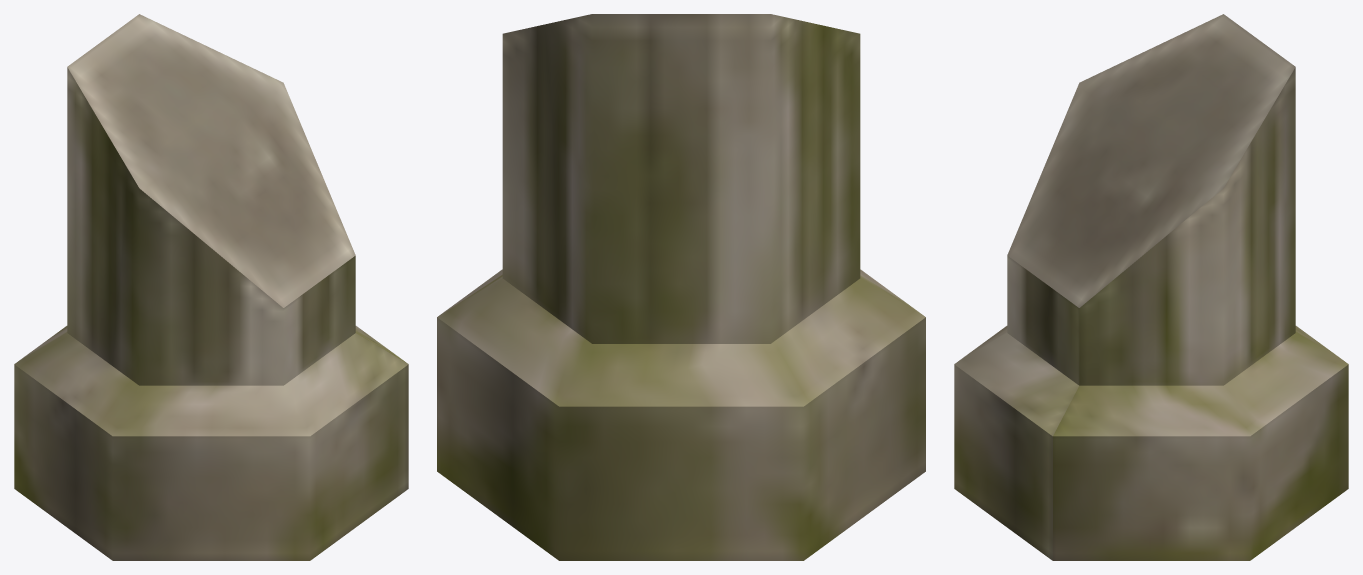
The model's file is swamp_temple_5.FBX.
The picture shows the model from 3 angles, left to right: view 1: azimuth 30°, elevation 25°; view 2: azimuth 150°, elevation 25°; view 3: azimuth 270°, elevation 25°; orthographic projection. The views are drawn at different scales.
Visible parts, largest first — view 1: swamp_temple_5; view 2: swamp_temple_5; view 3: swamp_temple_5.
Boxes of the visible parts, bbox=[...] form: swamp_temple_5: bbox=[14, 14, 408, 560]; swamp_temple_5: bbox=[437, 14, 925, 560]; swamp_temple_5: bbox=[954, 14, 1348, 560].
Size of the model in its own units: 24.4 by 33.25 by 28.18.
